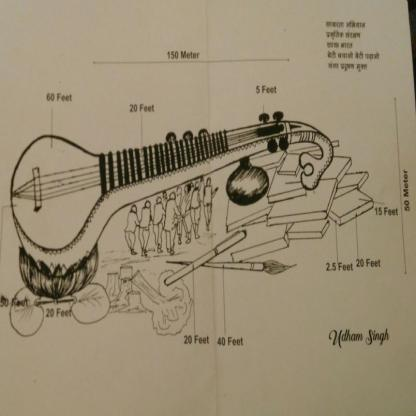Veena: (1, 135, 251, 238)
